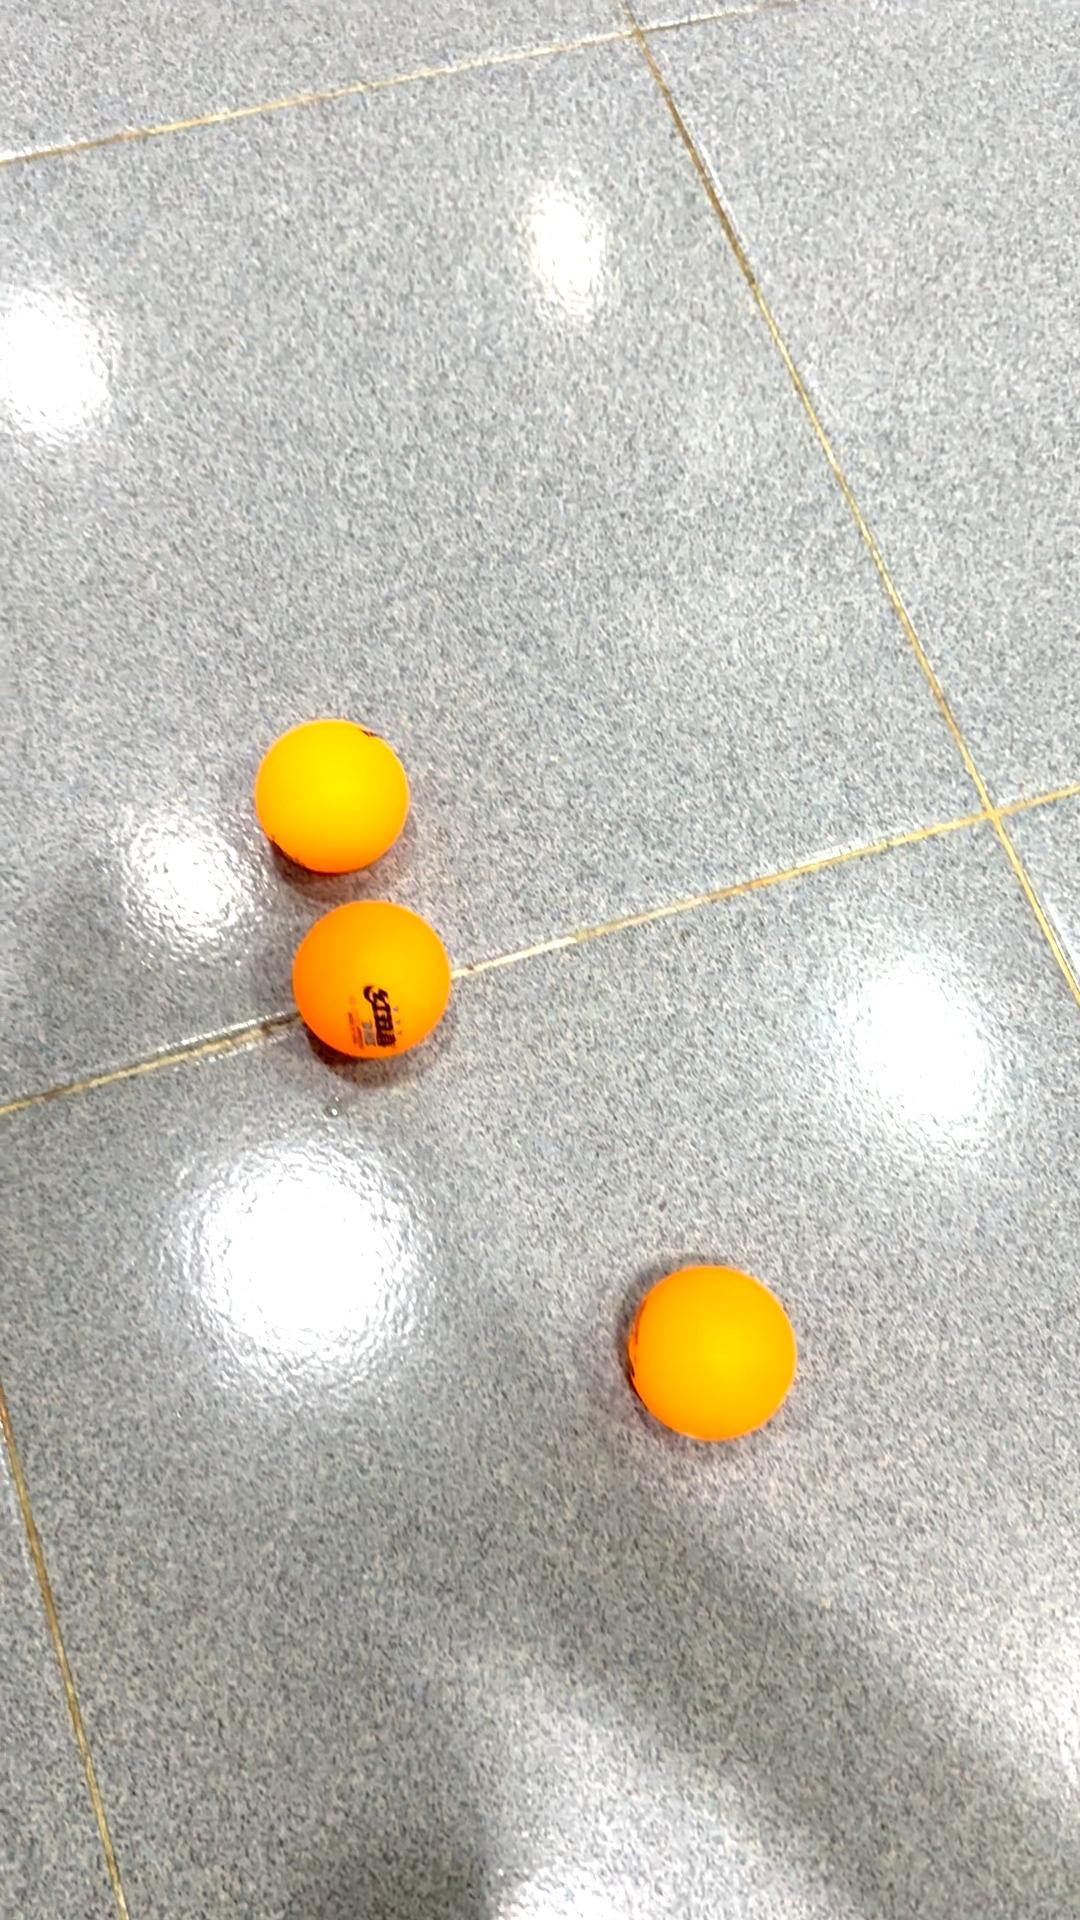oball: (625, 1254, 812, 1455), (241, 717, 430, 880), (287, 898, 452, 1072)
